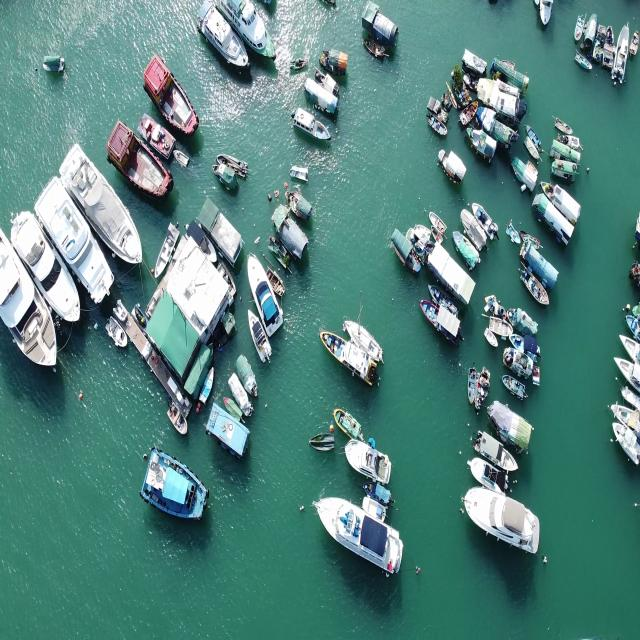ship: (66, 146, 146, 262), (41, 180, 110, 310), (313, 491, 407, 586), (458, 489, 545, 559), (144, 442, 206, 534), (140, 57, 202, 144), (105, 126, 174, 201), (217, 0, 280, 65), (194, 6, 248, 78), (244, 254, 288, 336), (322, 331, 379, 391), (474, 428, 524, 475), (346, 310, 386, 364), (516, 264, 555, 314), (467, 458, 512, 492), (453, 225, 483, 275), (302, 77, 342, 114), (292, 109, 334, 143), (245, 314, 278, 357), (460, 209, 492, 252), (230, 369, 254, 424), (474, 197, 502, 243), (503, 370, 531, 414), (464, 359, 486, 415), (435, 150, 467, 187), (497, 354, 539, 382), (286, 185, 312, 227), (362, 488, 394, 522), (238, 356, 260, 404), (512, 156, 536, 196), (318, 46, 349, 76), (266, 262, 288, 304), (334, 409, 364, 439), (570, 48, 598, 76), (424, 204, 447, 238), (167, 396, 186, 436), (219, 149, 248, 175), (105, 315, 127, 348), (309, 433, 341, 455), (422, 112, 450, 137), (197, 370, 220, 400), (512, 337, 542, 360), (212, 162, 238, 188), (362, 41, 390, 64), (222, 395, 245, 421), (480, 358, 490, 411), (487, 317, 512, 338), (287, 162, 313, 182), (43, 53, 66, 75), (486, 327, 503, 352), (554, 115, 577, 131), (508, 219, 520, 246), (290, 55, 310, 68), (428, 228, 446, 242), (172, 150, 192, 162)
